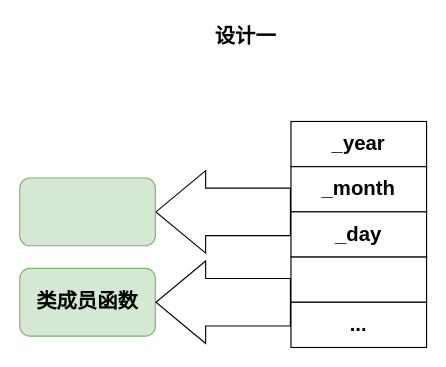
This 446x367 diagram has some shape labels left out. The shapes that lost their labels are listed below. From the top down, each one's centre as x and y in pixels, then its label:
At (87,211): "类成员变量".
At (358,279): "Print（）".
